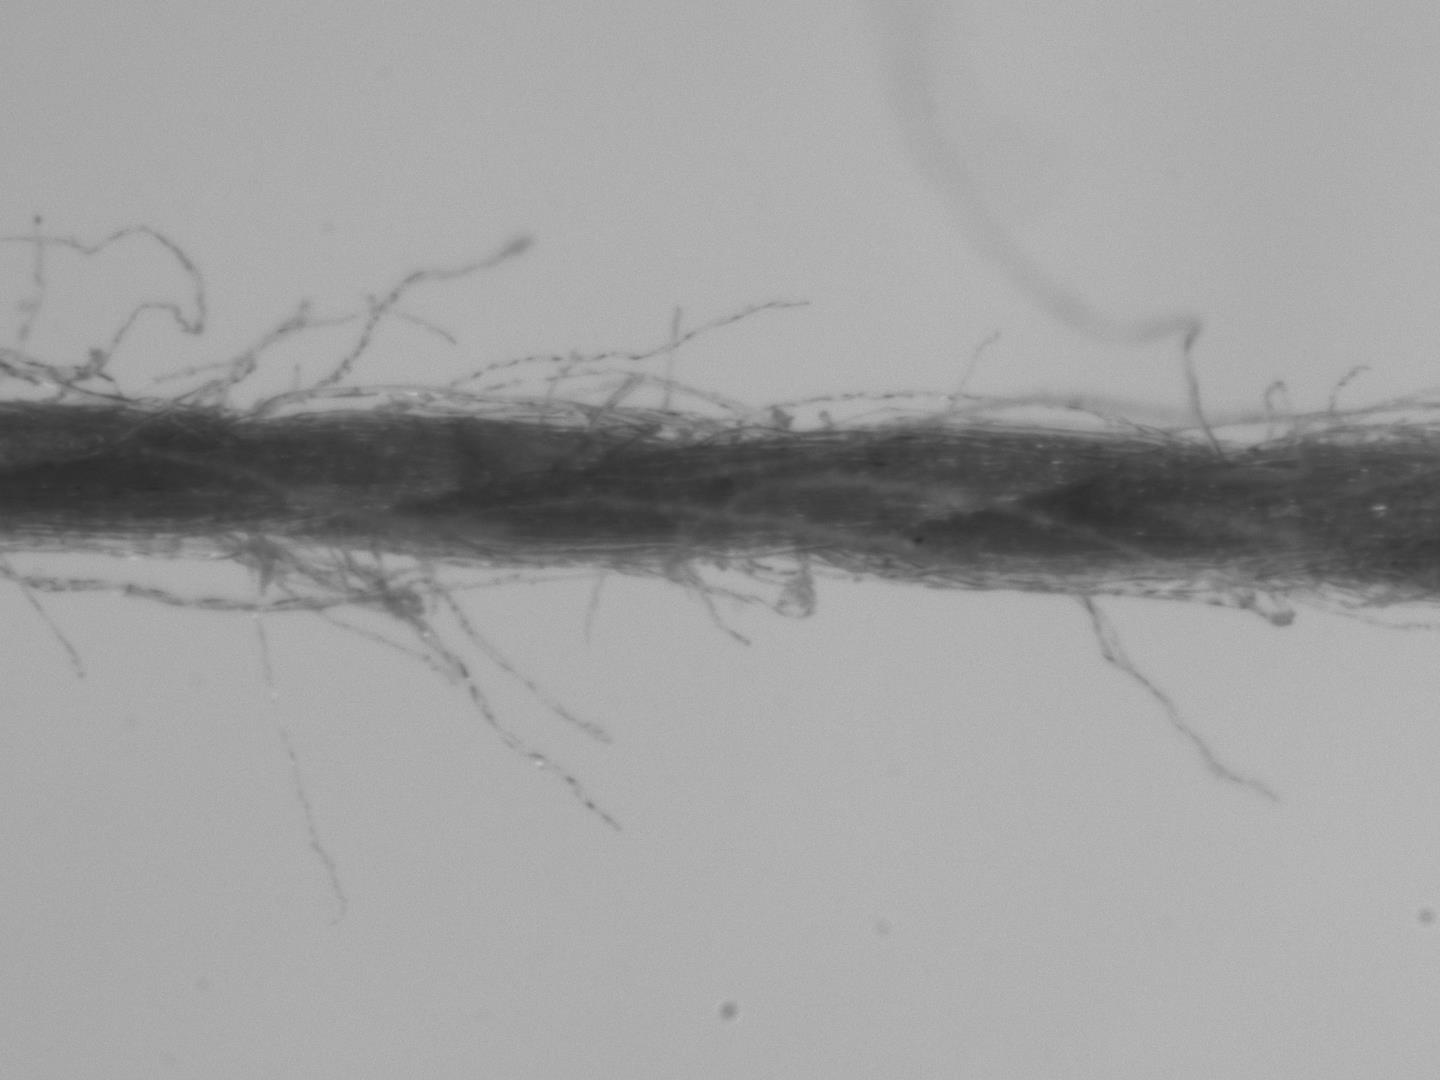loop_fiber: (2, 552, 626, 623), (730, 374, 1183, 454), (653, 556, 825, 625), (1178, 589, 1308, 627), (1257, 373, 1303, 445)
protruding_fiber: (889, 61, 1218, 422), (331, 538, 635, 834), (245, 229, 540, 419), (401, 290, 822, 412), (1068, 593, 1293, 811), (246, 548, 363, 929), (410, 554, 625, 750), (0, 216, 218, 405), (146, 292, 469, 413), (7, 557, 102, 699), (670, 560, 764, 652), (2, 208, 53, 374), (932, 322, 1008, 415), (1318, 351, 1390, 446), (647, 297, 695, 413), (579, 549, 621, 641)
